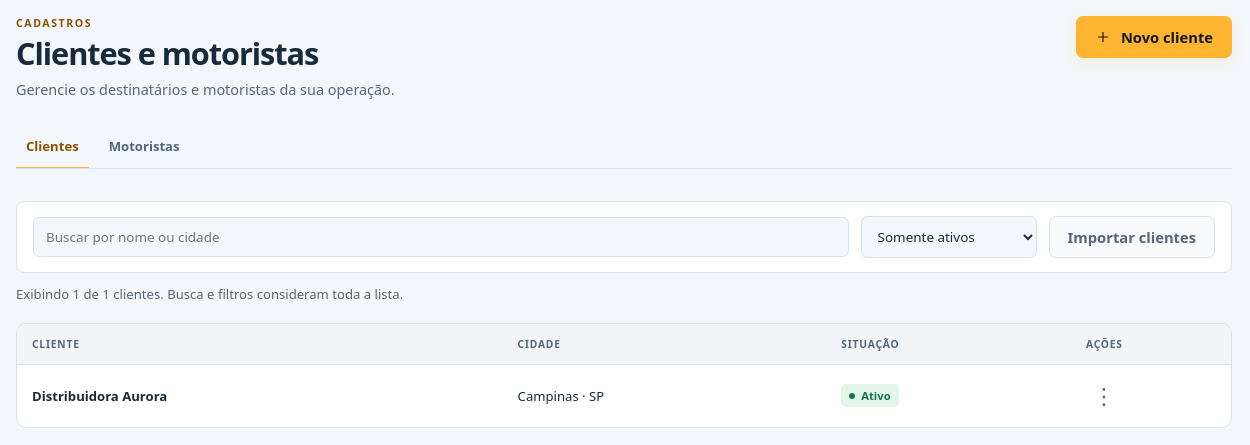
Test case: ContactsPage › troca para a aba de motoristas
Check: the text "Distribuidora Aurora" is shown, box [32, 387, 167, 405]
Click the tab "Motoristas" at (144, 147), box [99, 125, 190, 169]
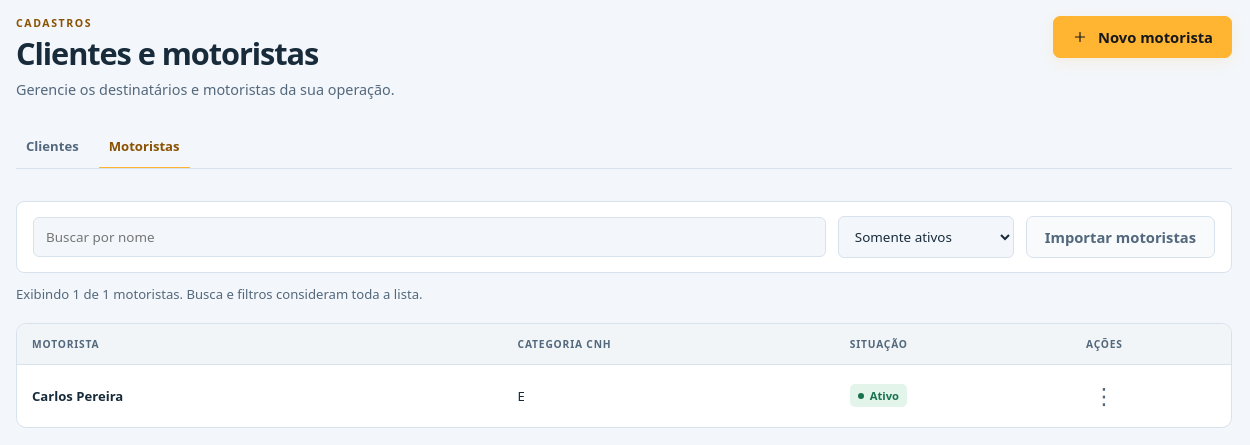
Check: the text "Carlos Pereira" is shown, box [32, 387, 123, 405]
Check: the text "Distribuidora Aurora" is gone
